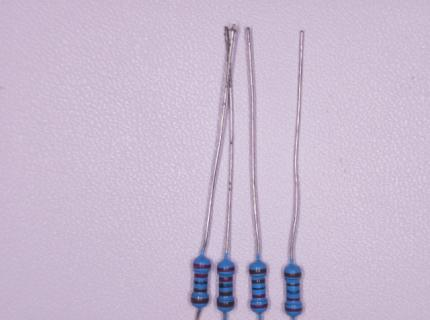Black band: (251, 286, 266, 291), (286, 289, 301, 294), (193, 280, 207, 285), (219, 283, 233, 288)
Brown band: (249, 268, 267, 274), (191, 298, 209, 304), (217, 301, 234, 307), (252, 278, 266, 285), (284, 272, 302, 277), (193, 287, 207, 293), (218, 291, 233, 296), (286, 283, 300, 287)
Red band: (250, 304, 268, 309), (193, 264, 211, 269), (285, 307, 302, 312), (218, 267, 235, 272), (286, 296, 300, 302), (219, 276, 233, 282), (194, 273, 208, 279), (252, 294, 266, 299)
